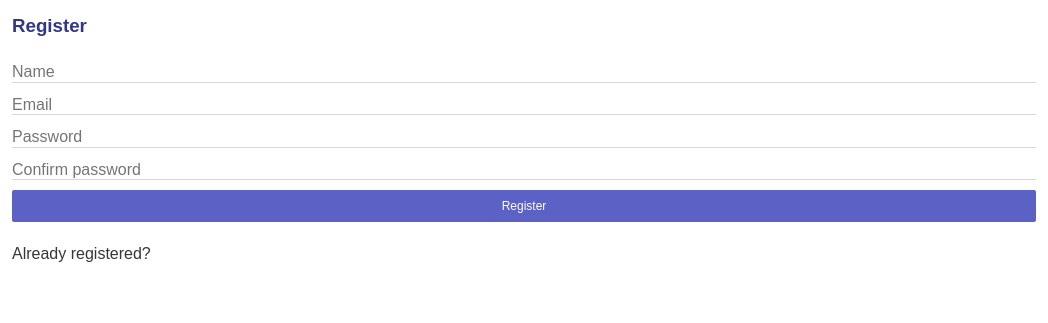
it: Test on <RegisterScreen /> › should display a password error
The width and height of the screenshot is (1048, 323).
Step 1. Type "testing new user" into the field with placeholder "Name" → coordinates (524, 73), box top-left (12, 63), bottom-right (1036, 83)
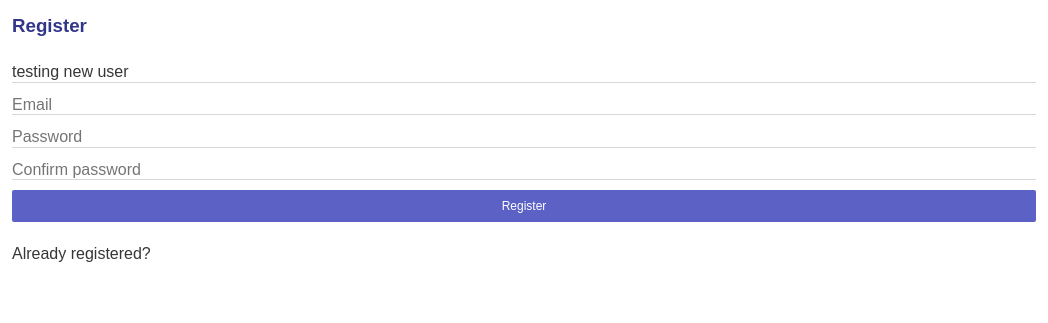
Step 2. Type "testing_new_user@gmail.com" into the field with placeholder "Email" → coordinates (524, 105), box top-left (12, 95), bottom-right (1036, 115)
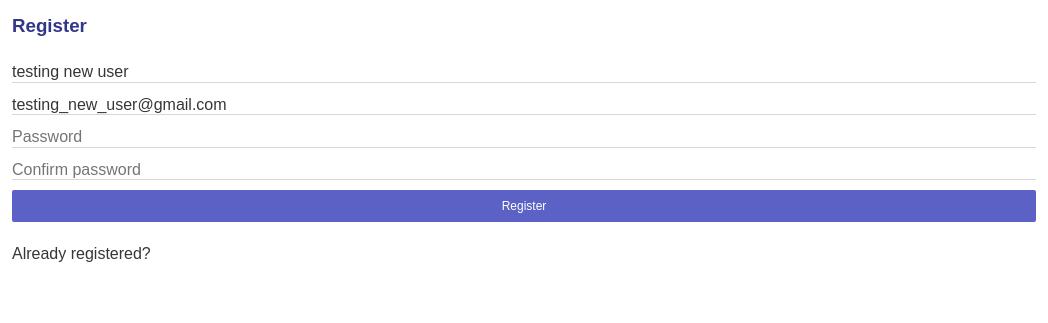
Step 3. Type "123456" into the password field with placeholder "Password" → coordinates (524, 138), box top-left (12, 128), bottom-right (1036, 148)
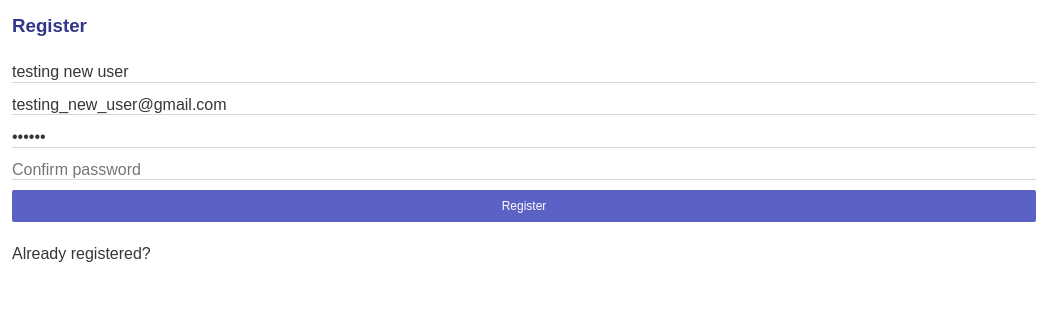
Step 4. Type "123456" into the password field with placeholder "Confirm password" → coordinates (524, 170), box top-left (12, 160), bottom-right (1036, 180)
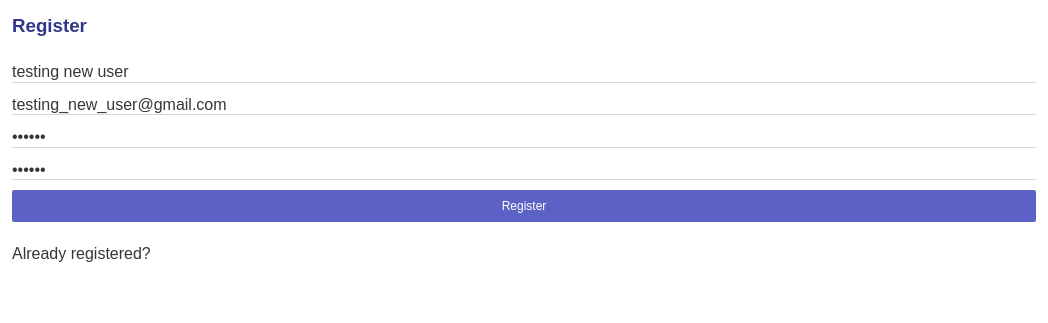
Step 5. Clear the 1st password field with placeholder "Password" → coordinates (524, 138), box top-left (12, 128), bottom-right (1036, 148)
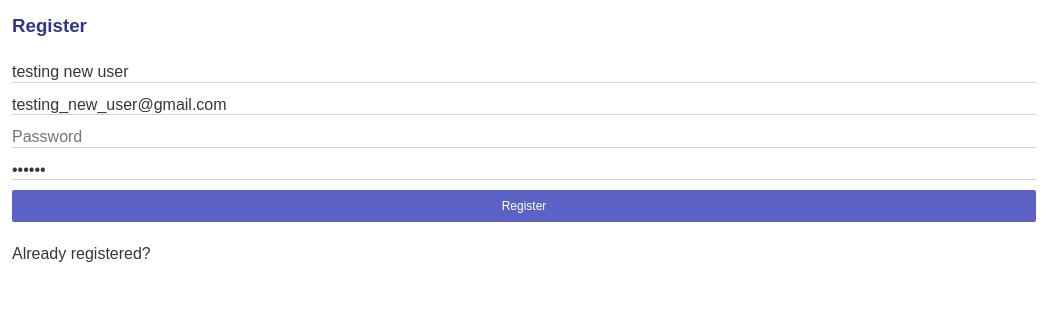
Step 6. Click the button → coordinates (524, 206), box top-left (12, 190), bottom-right (1036, 222)
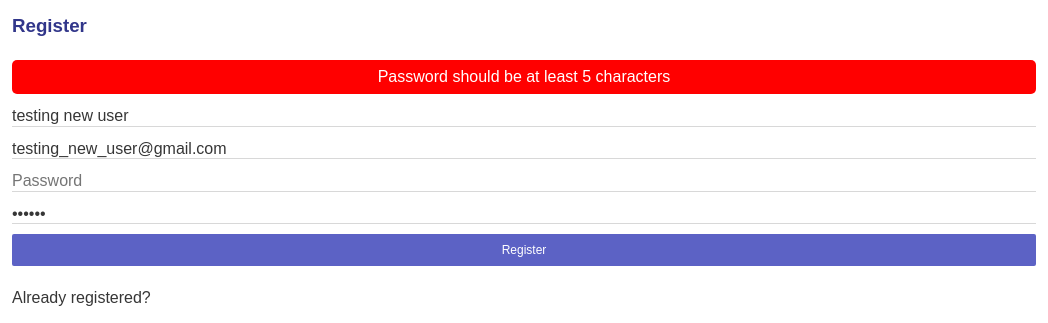
Now the text "Password should be at least 5 characters" is shown, box top-left (12, 60), bottom-right (1036, 94)
